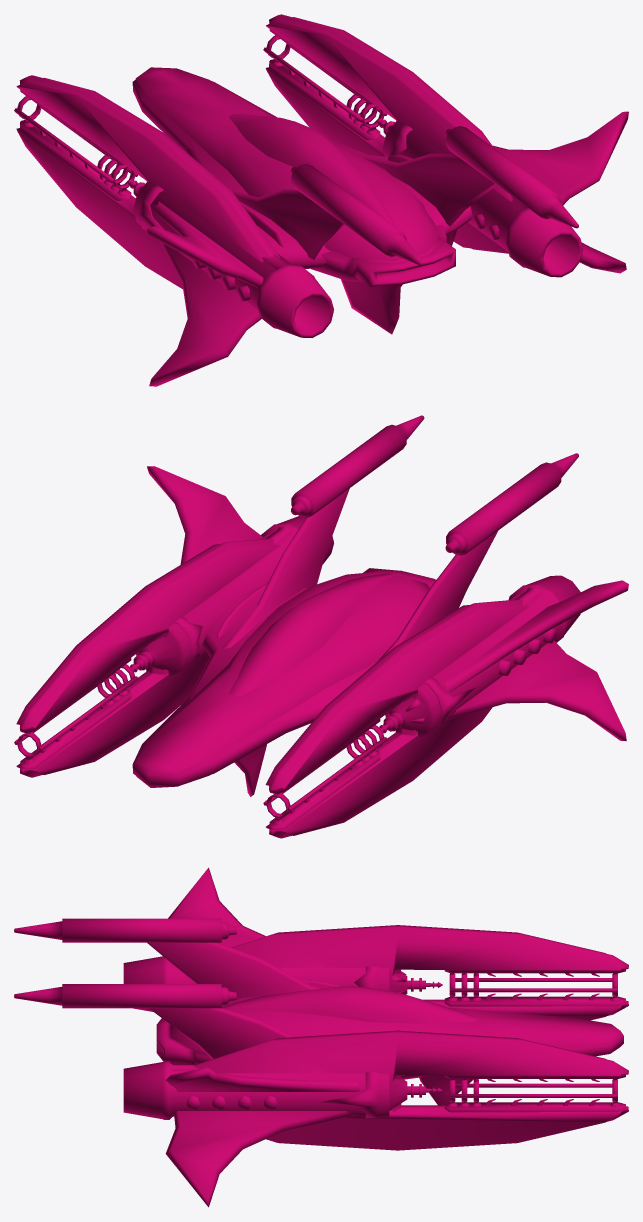
Rendered from AlienStarfighterLowPoly3.obj.
The picture shows the model from 3 angles, top to bottom: view 1: azimuth 30°, elevation 25°; view 2: azimuth 150°, elevation 25°; view 3: azimuth 270°, elevation 25°; orthographic projection. The views are drawn at different scales.
Visible parts, largest first — view 1: Cube.033_Cube.047; view 2: Cube.033_Cube.047; view 3: Cube.033_Cube.047.
Part boxes in pixels (box(x1,y1,x2,y2)): Cube.033_Cube.047: box(14, 14, 628, 386); Cube.033_Cube.047: box(14, 415, 628, 838); Cube.033_Cube.047: box(14, 867, 628, 1207).
Size of the model in its own units: 6.19 by 2.34 by 7.87.
